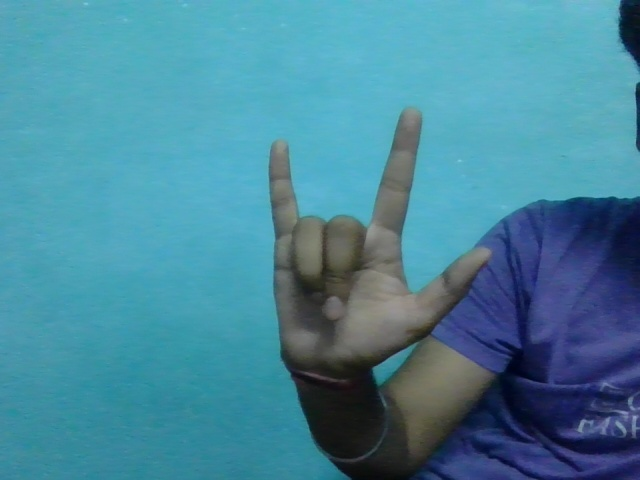iloveyou: (243, 101, 497, 375)
